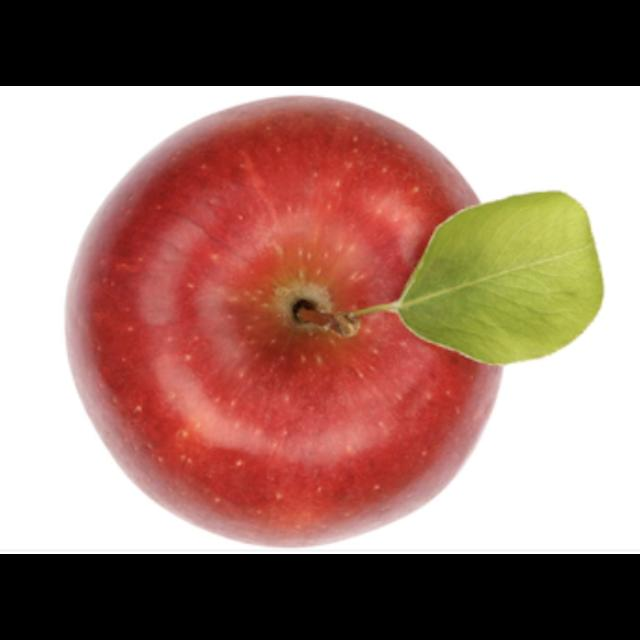Apel Segar: (62, 95, 606, 550)
